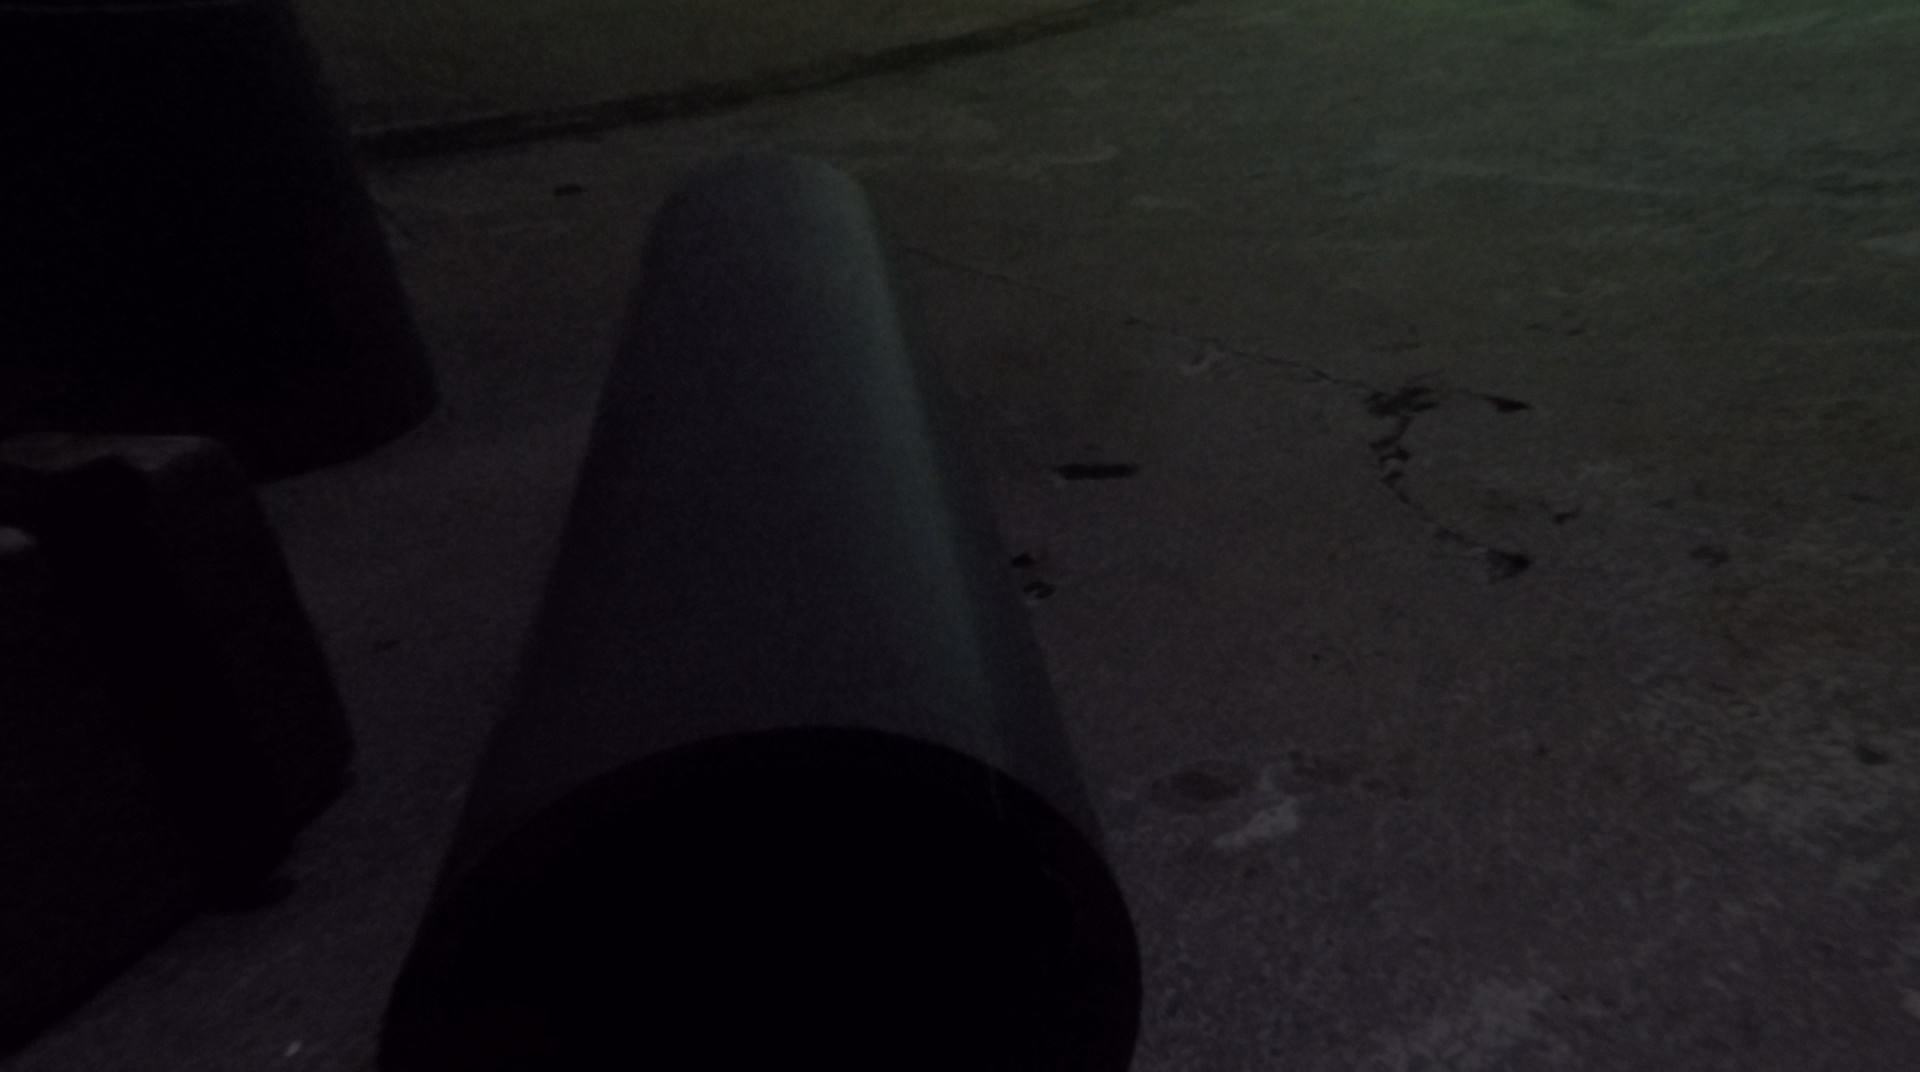led_block: (1, 435, 353, 944)
pipe: (375, 156, 1146, 1071), (17, 1, 442, 464)
